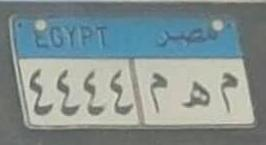4: (25, 65, 53, 119), (108, 66, 134, 120), (55, 68, 81, 119), (81, 69, 106, 120)
haa: (180, 76, 212, 115)
meem: (216, 70, 240, 116), (148, 69, 171, 114)
